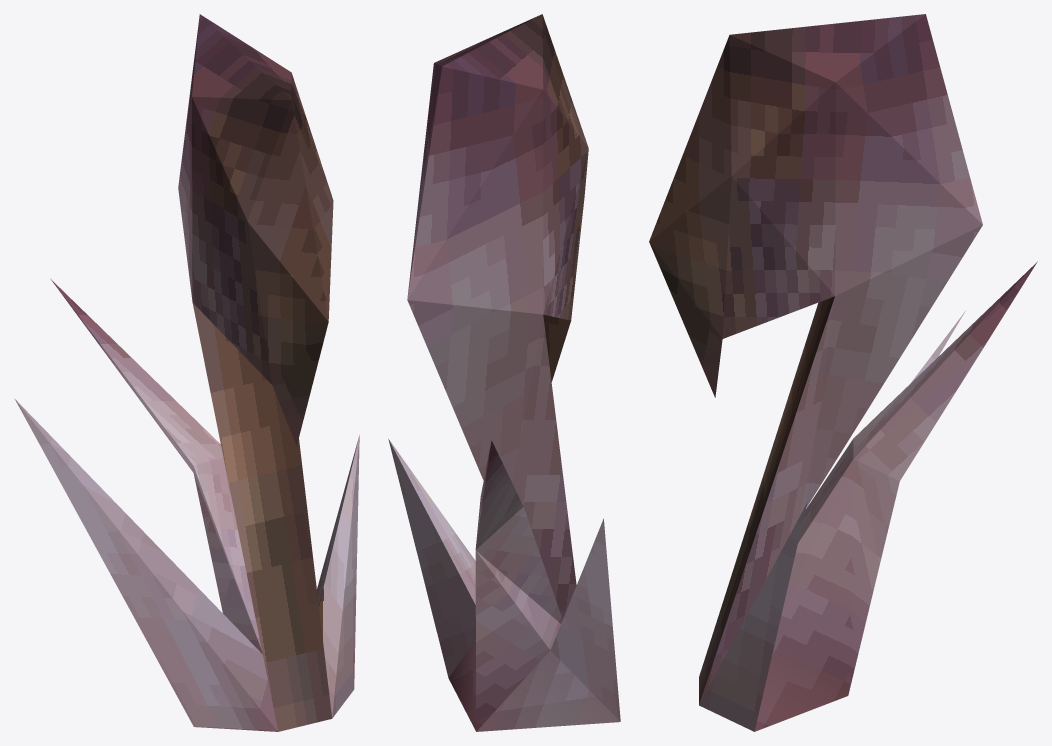
File: frn_all_decorative_sm_s1_l2.fbx
3 renders of one model, left to right at view 1: azimuth 30°, elevation 25°; view 2: azimuth 150°, elevation 25°; view 3: azimuth 270°, elevation 25°, orthographic. The views are drawn at different scales.
Visible parts, largest first — view 1: mesh_node; view 2: mesh_node; view 3: mesh_node.
Part boxes in pixels (bbox=[...]): mesh_node: bbox=[14, 14, 359, 731]; mesh_node: bbox=[388, 14, 620, 731]; mesh_node: bbox=[649, 14, 1037, 731].
Size of the model in its own units: 0.2209 by 0.4945 by 0.2567.
